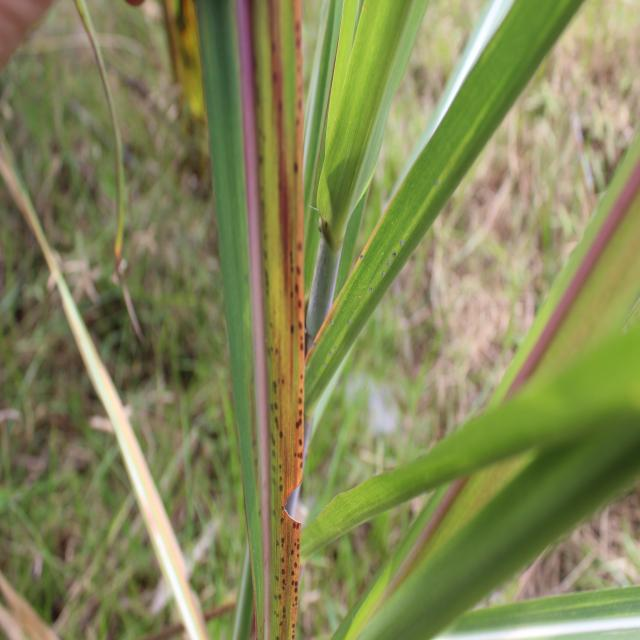Sugarcane: (302, 1, 613, 409), (192, 0, 323, 639), (303, 344, 636, 564), (312, 1, 443, 257), (298, 4, 350, 340)
